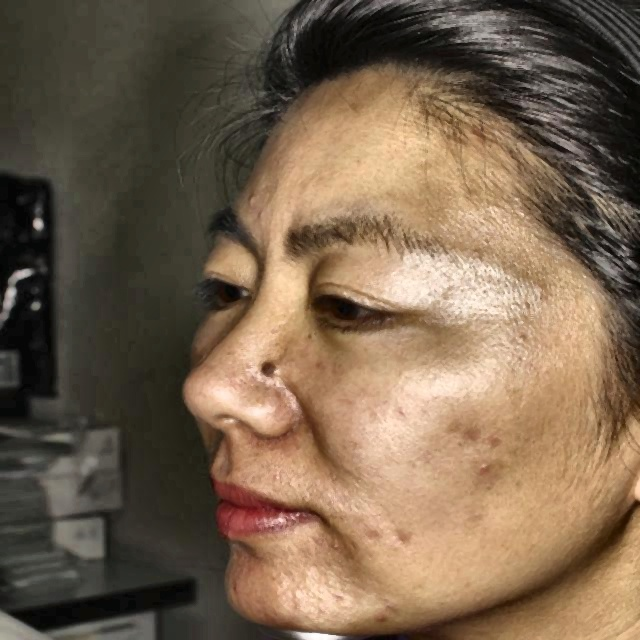comedone: (466, 449, 506, 483), (386, 520, 413, 564), (243, 184, 276, 220)
